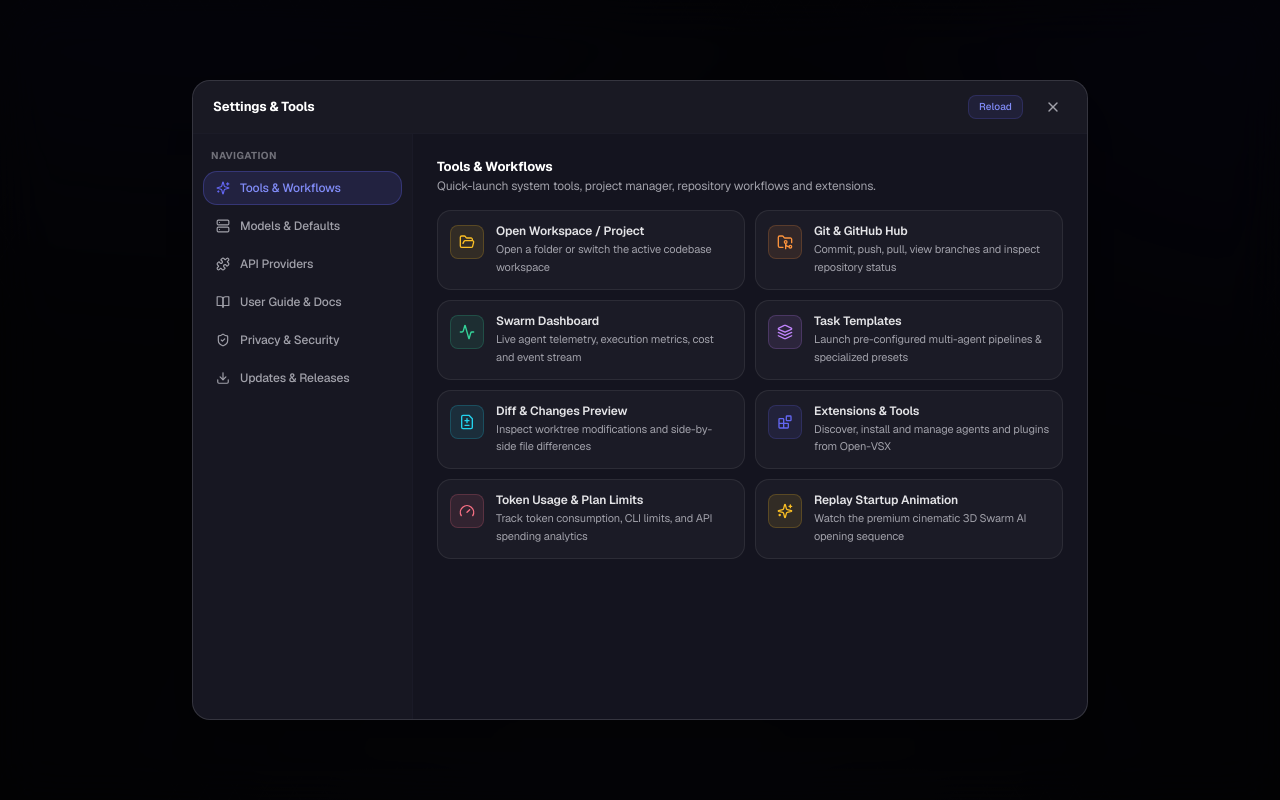
Test: SettingsPage › renders ModelsSection when models nav is clicked
The image size is (1280, 800).
Click the button "Models & Defaults": {"x": 302, "y": 226} [203,209,402,243]
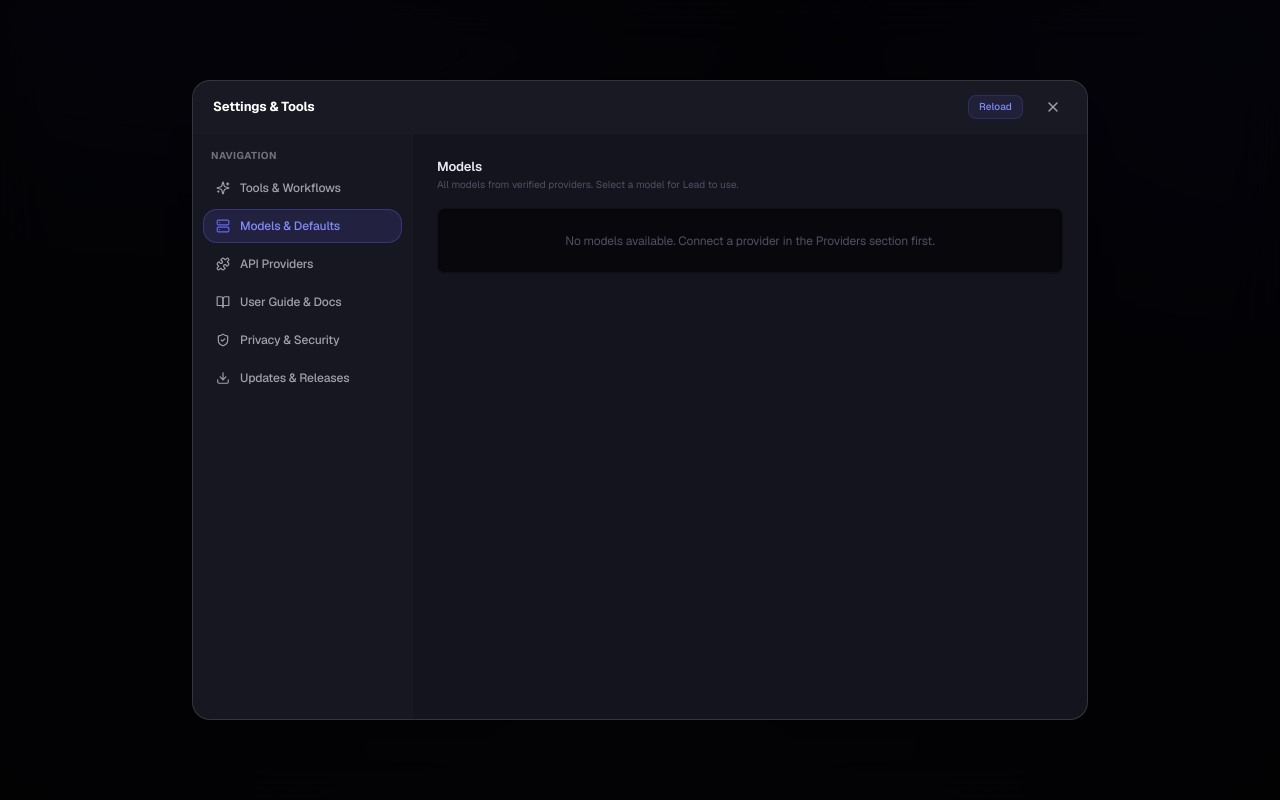
Expected: the element with test id "models-section" is shown, [437,158,1063,274]
